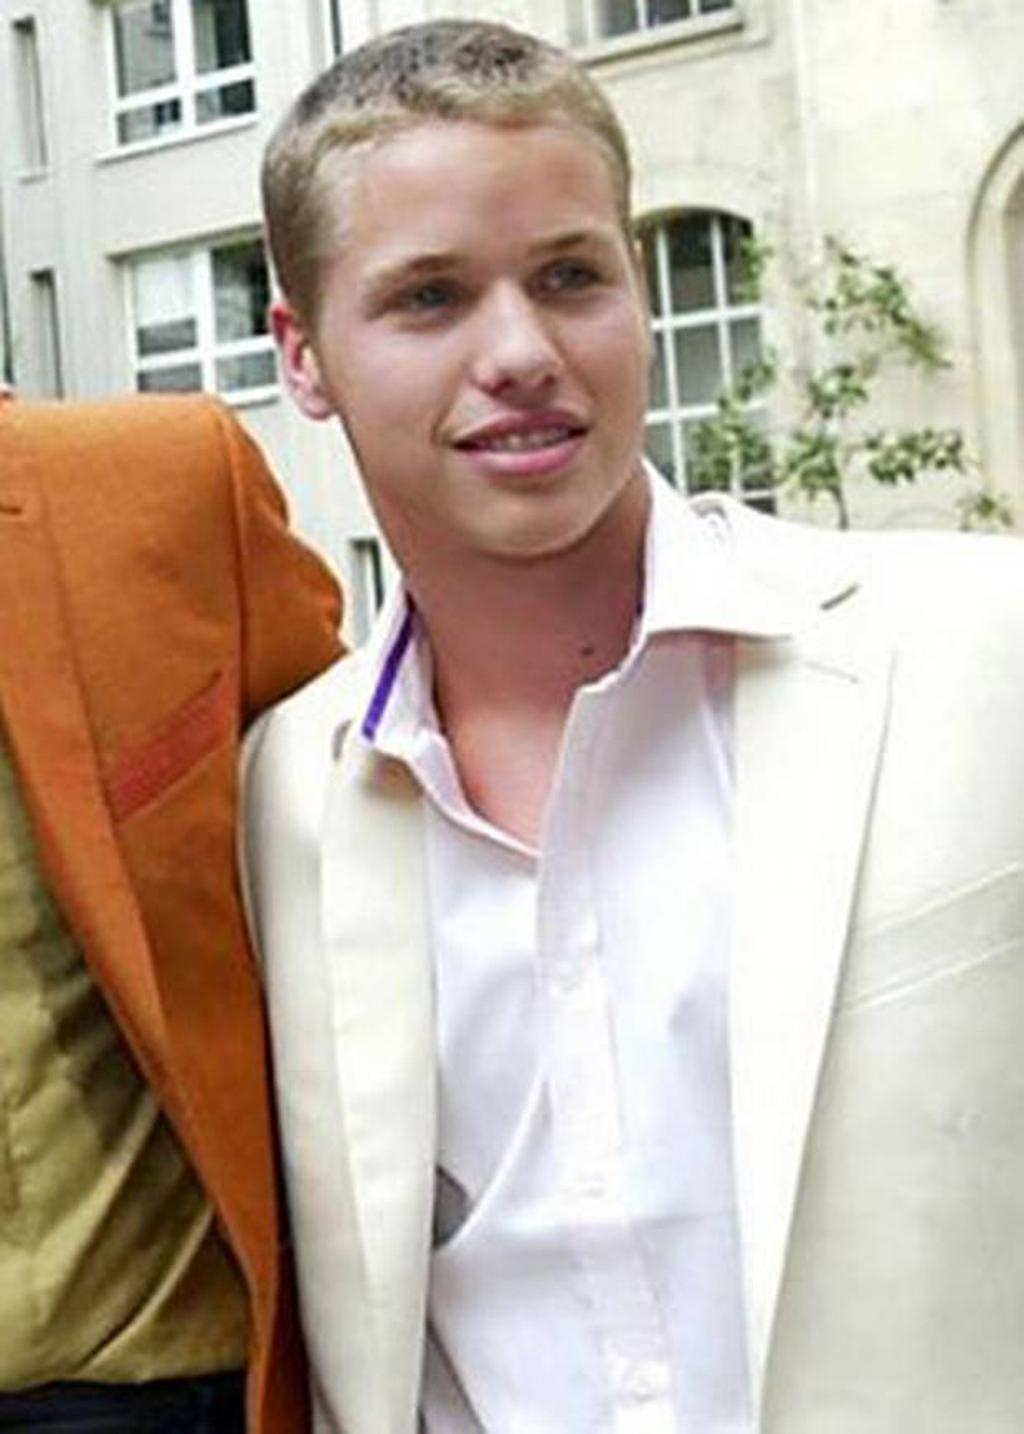face: (322, 126, 652, 551)
